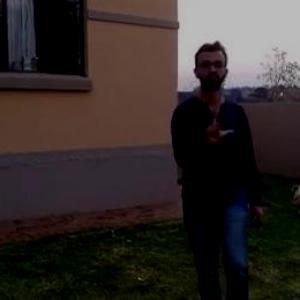land_hand: (198, 98, 236, 150)
